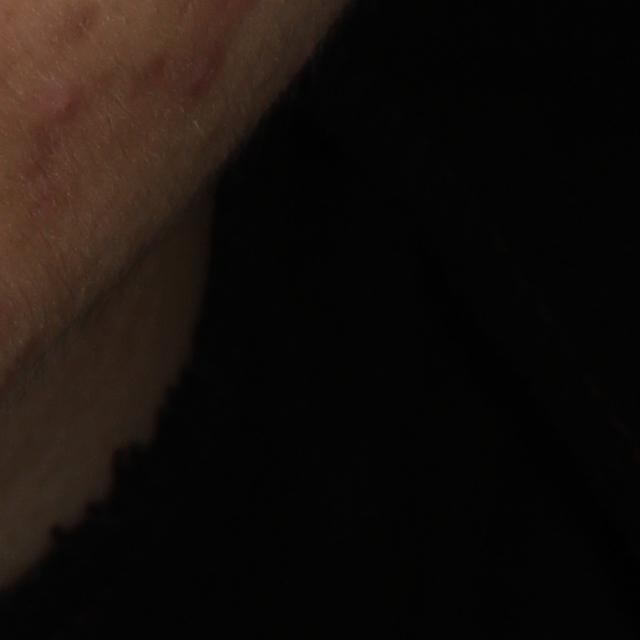papule: (43, 91, 80, 122)
